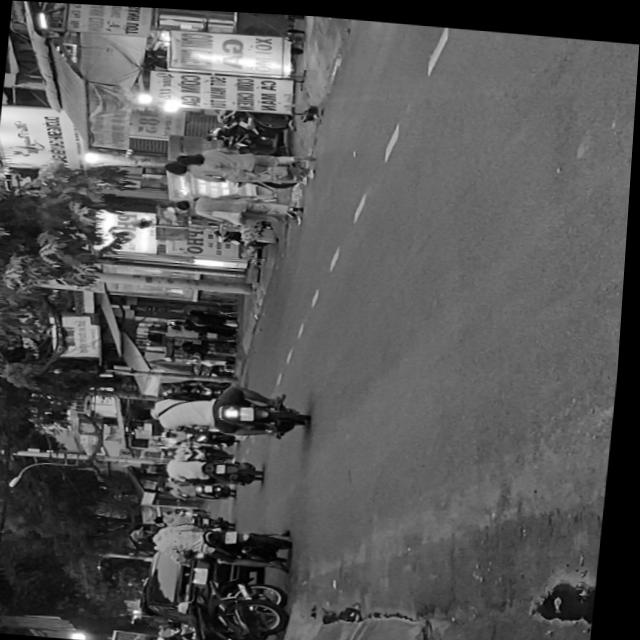helmet: (135, 526, 160, 542)
licenseplate: (127, 375, 316, 439), (132, 514, 299, 569)
motorcyclist: (130, 400, 160, 418)
nohelmet: (242, 402, 258, 418), (230, 528, 243, 540)
